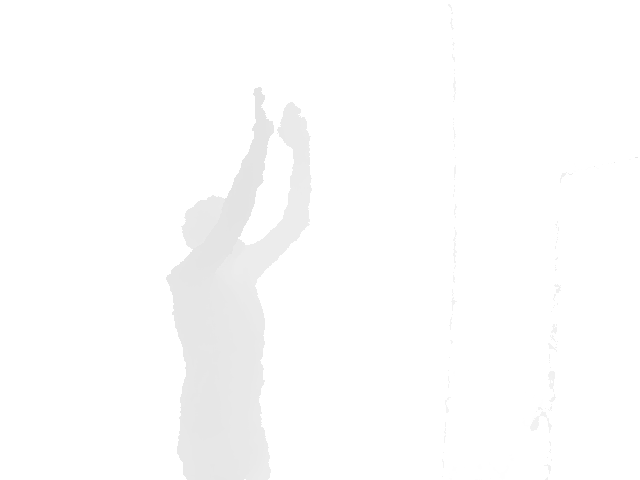hand: (277, 101, 312, 149), (249, 87, 276, 137)
head: (181, 195, 248, 253)
person: (163, 84, 314, 480)
